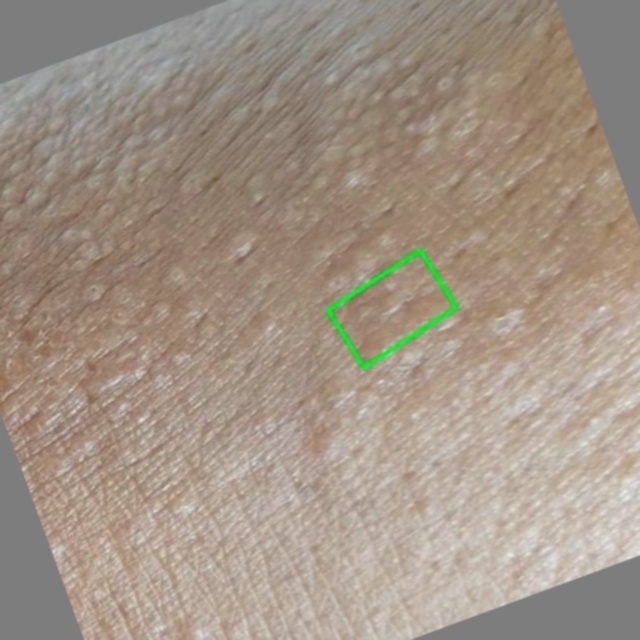Seborrheic Dermatitis: (327, 250, 456, 367)
